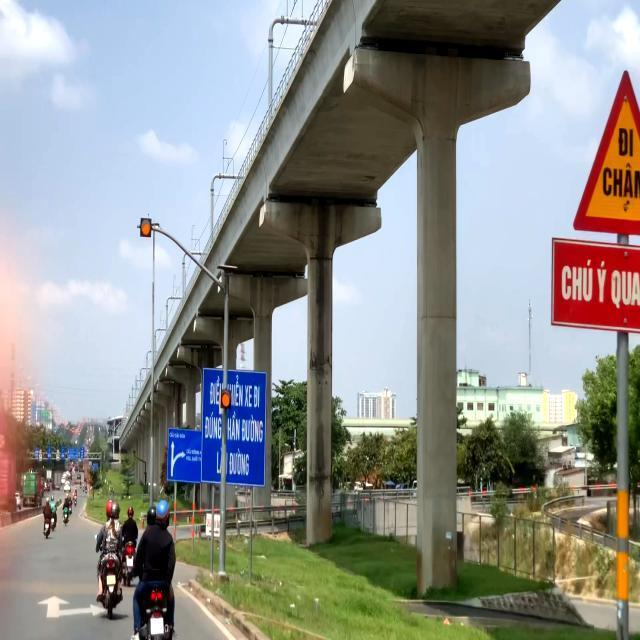245-di-cham: (571, 72, 640, 235)
